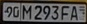0: (13, 5, 20, 19)
2: (33, 5, 43, 20)
3: (50, 5, 60, 21)
9: (42, 5, 51, 20), (4, 5, 13, 19)
A: (70, 5, 80, 21)
F: (61, 5, 70, 21)
M: (21, 4, 33, 20)
